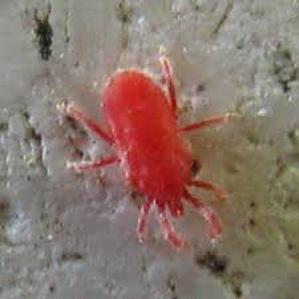spider mite: (47, 40, 259, 258)
